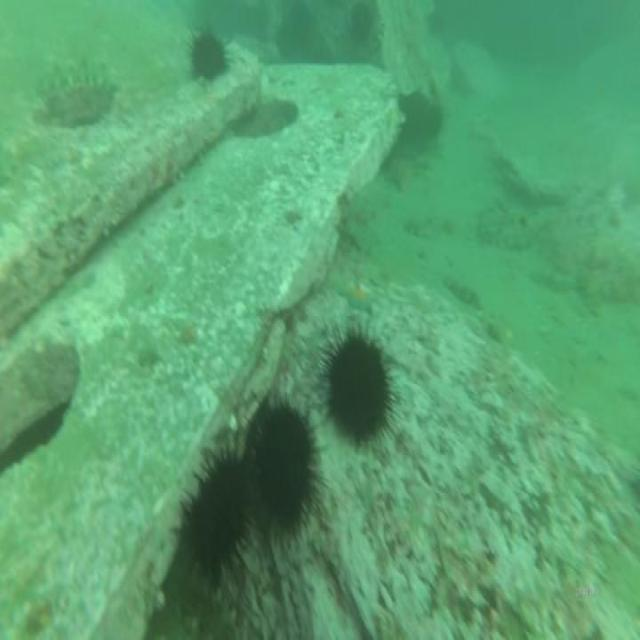echinus: (245, 383, 329, 553), (169, 438, 257, 597), (313, 313, 402, 455), (187, 19, 233, 87)
starfish: (334, 275, 380, 319)
